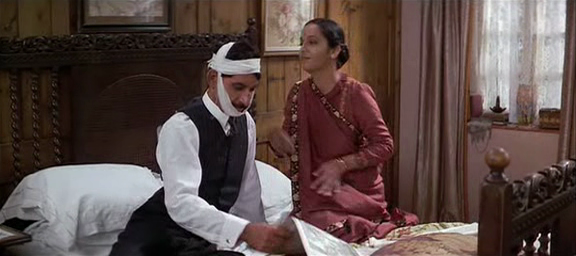face: (226, 77, 257, 116), (300, 28, 328, 70)
ms: (1, 1, 576, 256)
person: (108, 41, 293, 256), (282, 18, 417, 243)
